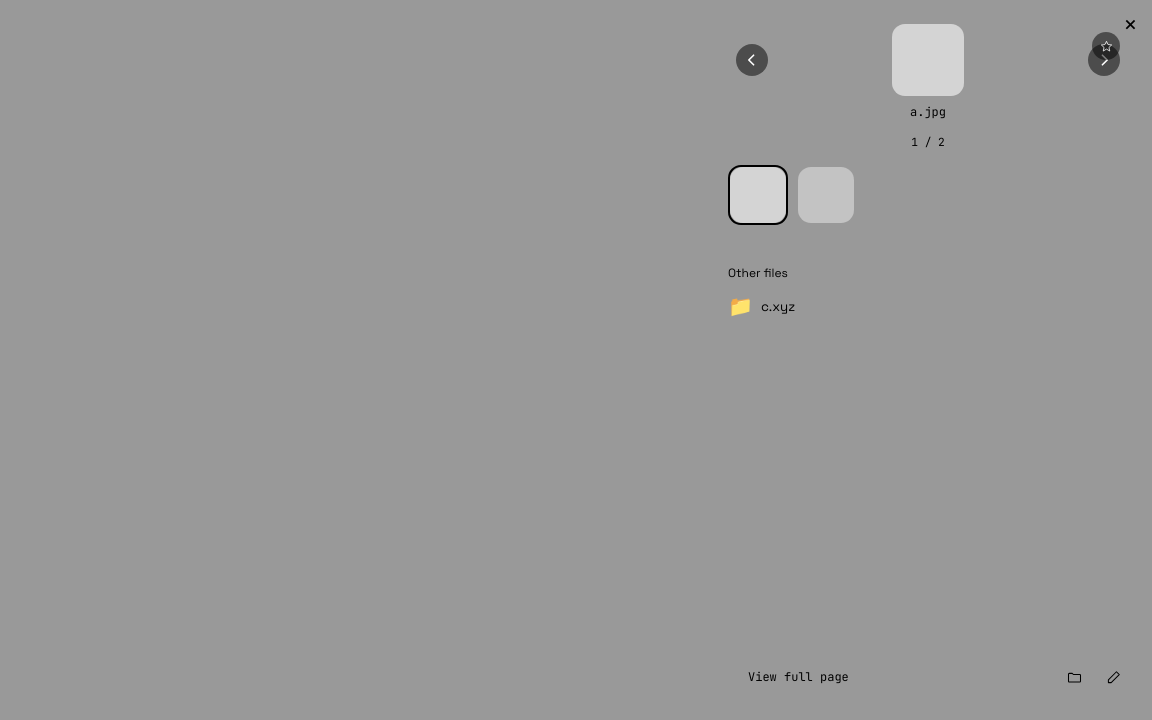
Scenario: CarouselDialog › sets the current item as the folder cover and refreshes it once saved
The image size is (1152, 720).
Click the button named "set as cover".
click(1106, 46)  # box top-left (1092, 32), bottom-right (1120, 60)
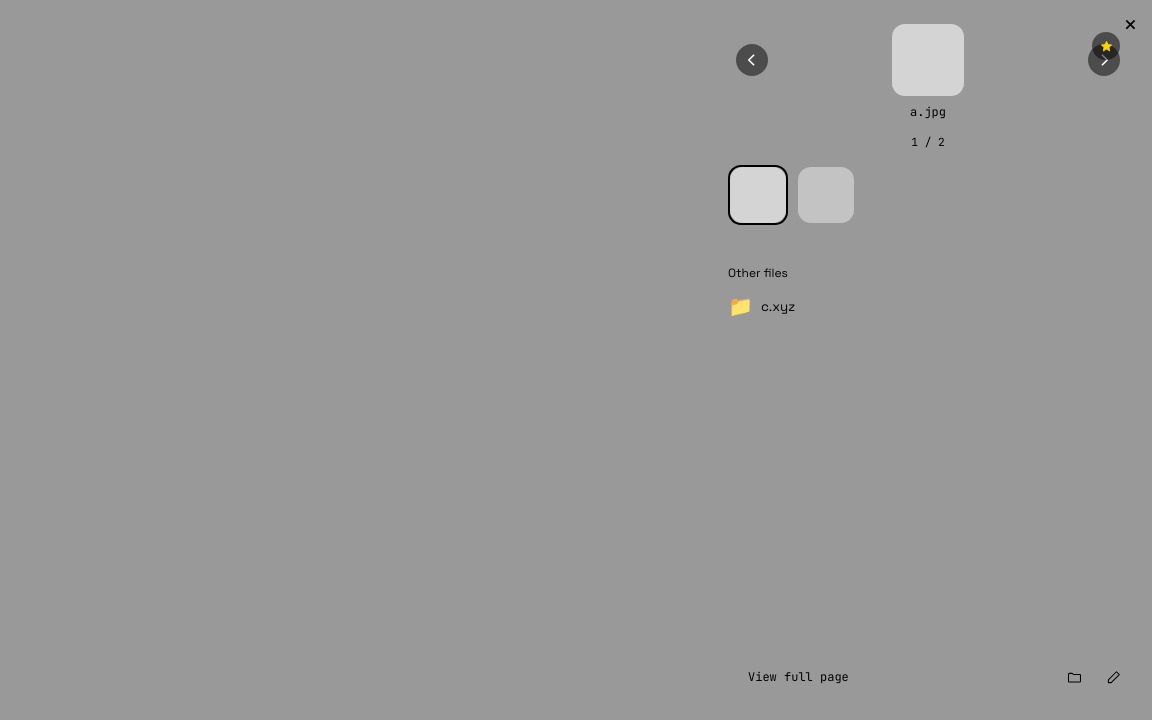
Result: the button named "current cover" is shown at top-left (1092, 32), bottom-right (1120, 60)
